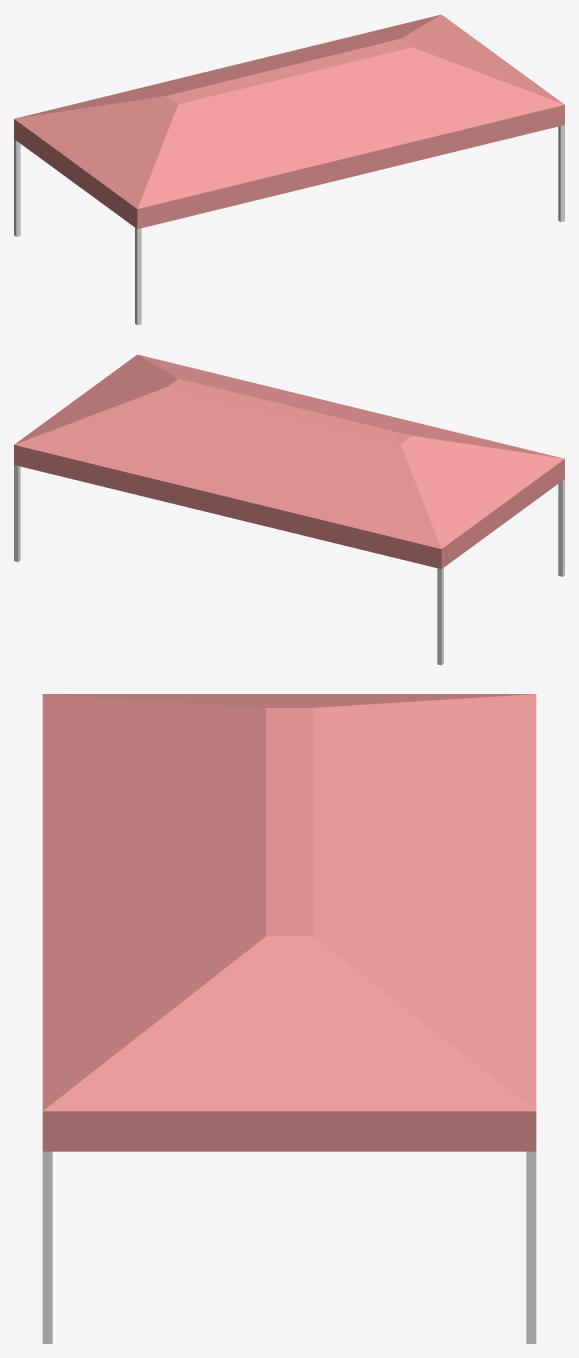
The model's file is tentLong.glb.
3 renders of one model, top to bottom at view 1: azimuth 30°, elevation 25°; view 2: azimuth 150°, elevation 25°; view 3: azimuth 270°, elevation 25°, orthographic. The views are drawn at different scales.
Visible parts, largest first — view 1: tentLong; view 2: tentLong; view 3: tentLong.
Part boxes in pixels (x1,y1,x2,y2): tentLong: (14,14,564,325); tentLong: (14,354,564,665); tentLong: (42,694,536,1343).
Size of the model in its own units: 2 by 0.7 by 1.
